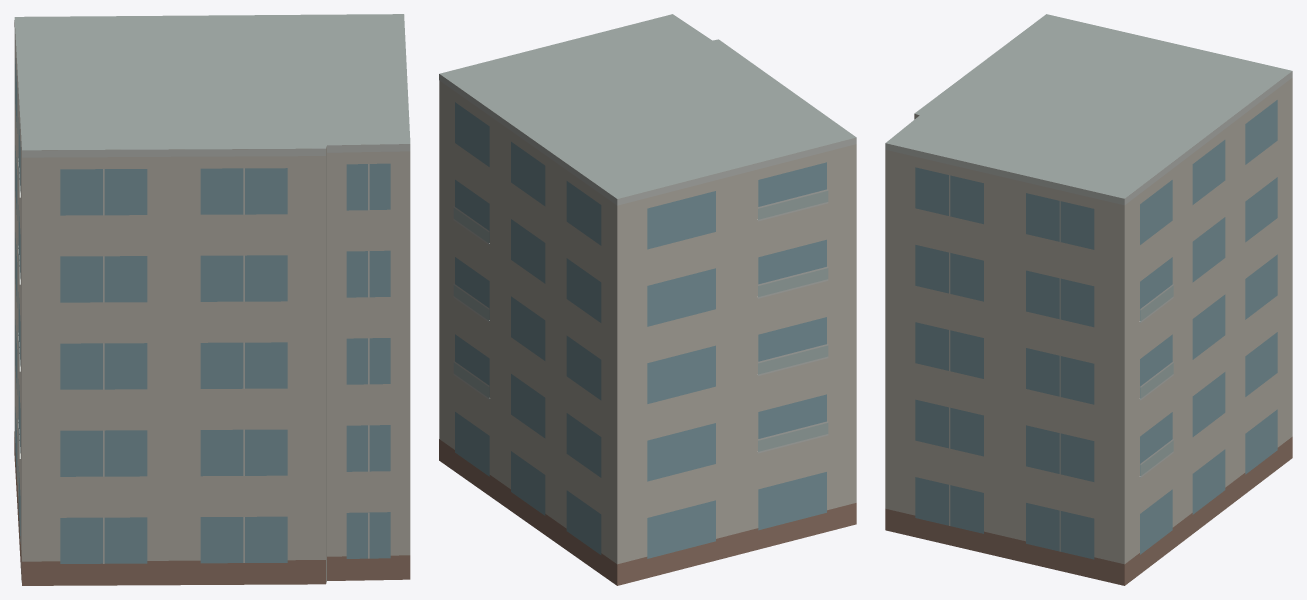
Rendered from survey-upis-32511049.glb.
The picture shows the model from 3 angles, left to right: view 1: azimuth 30°, elevation 25°; view 2: azimuth 150°, elevation 25°; view 3: azimuth 270°, elevation 25°; orthographic projection. The views are drawn at different scales.
Visible parts, largest first — view 1: survey-upis-32511049.tmp; view 2: survey-upis-32511049.tmp; view 3: survey-upis-32511049.tmp.
Boxes of the visible parts, x1=… form: survey-upis-32511049.tmp: x1=14, y1=14, x2=410, y2=585; survey-upis-32511049.tmp: x1=439, y1=14, x2=856, y2=585; survey-upis-32511049.tmp: x1=885, y1=14, x2=1292, y2=585.
Size of the model in its own units: 14.75 by 14.4 by 13.74.
